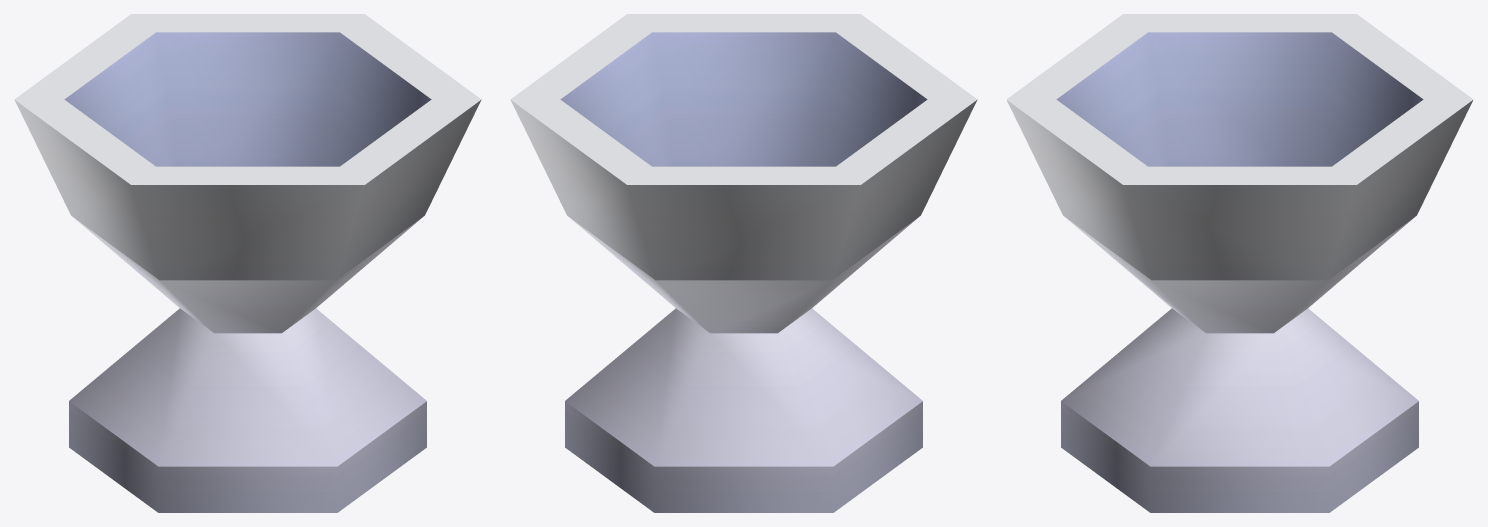
File: egg-cup.glb
3 renders of one model, left to right at view 1: azimuth 30°, elevation 25°; view 2: azimuth 150°, elevation 25°; view 3: azimuth 270°, elevation 25°, orthographic.
Visible parts, largest first — view 1: egg-cup; view 2: egg-cup; view 3: egg-cup.
Part boxes in pixels (x1=…): egg-cup: x1=14, y1=14, x2=481, y2=512; egg-cup: x1=510, y1=14, x2=977, y2=512; egg-cup: x1=1006, y1=14, x2=1473, y2=512.
Bounding box in the file's own units: 0.1581 × 0.15 × 0.1826.
1 material, 1 textured.
